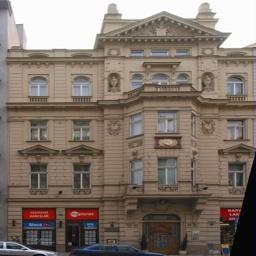building: (9, 7, 256, 235)
